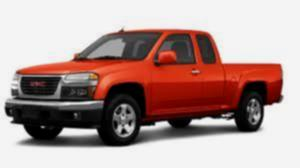GMC: (28, 78, 50, 88)
